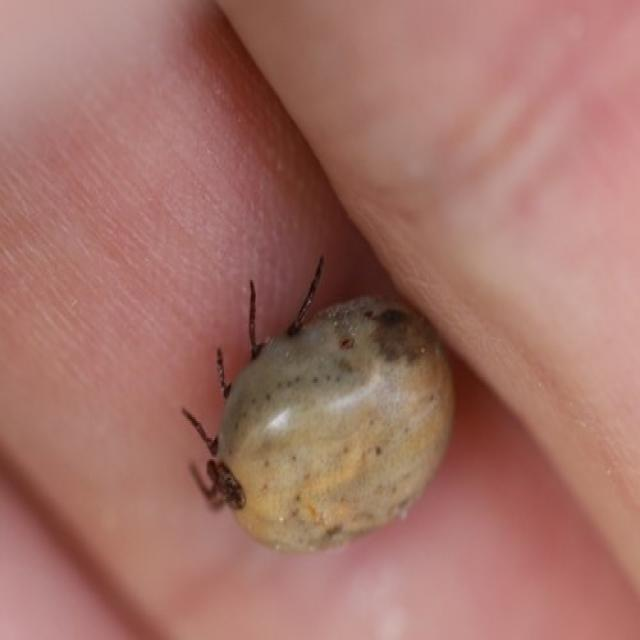Dermacentor Reticulatus-F-Fed: (180, 253, 456, 554)
